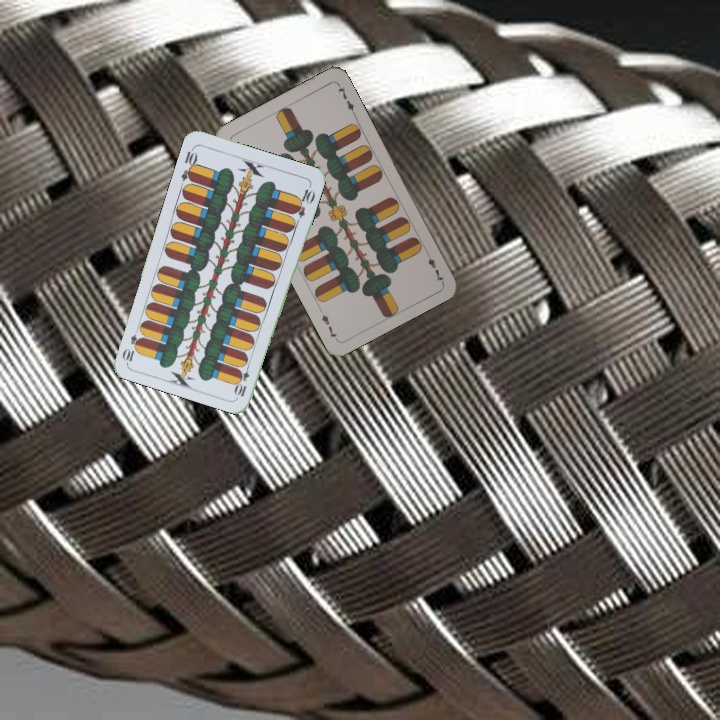E10: (177, 144, 200, 184), (232, 359, 252, 399)
E7: (421, 247, 446, 285)
